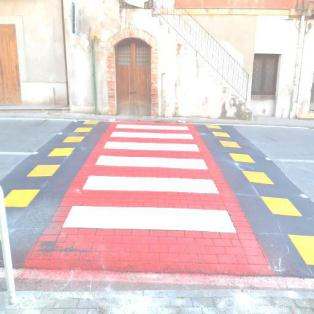Paso de Cebra: (60, 174, 238, 237), (93, 142, 212, 170)
